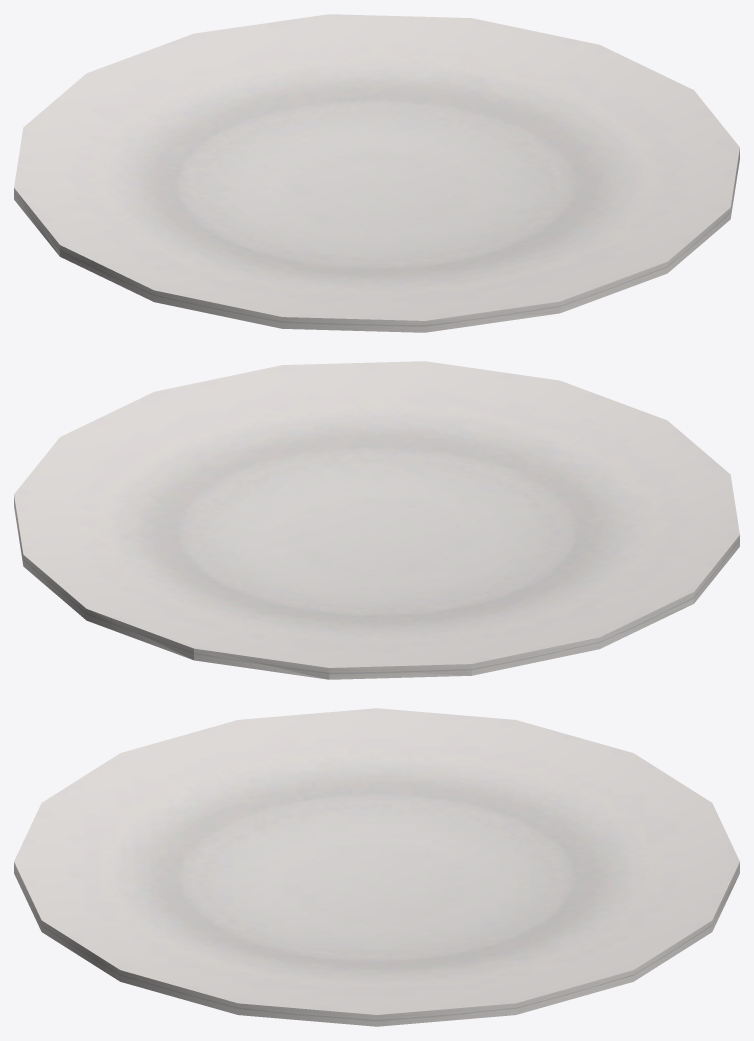
The model's file is Cookery_Plate.obj.
3 renders of one model, top to bottom at view 1: azimuth 30°, elevation 25°; view 2: azimuth 150°, elevation 25°; view 3: azimuth 270°, elevation 25°, orthographic.
Parts seen in each view (by area): view 1: Cookery_Plate; view 2: Cookery_Plate; view 3: Cookery_Plate.
Part boxes in pixels (x1,y1,x2,y2): Cookery_Plate: (14,14,739,332); Cookery_Plate: (14,361,739,679); Cookery_Plate: (14,708,739,1026).
Size of the model in its own units: 32.74 by 1.88 by 32.74.
Materials: 1 (1 with a texture image).
